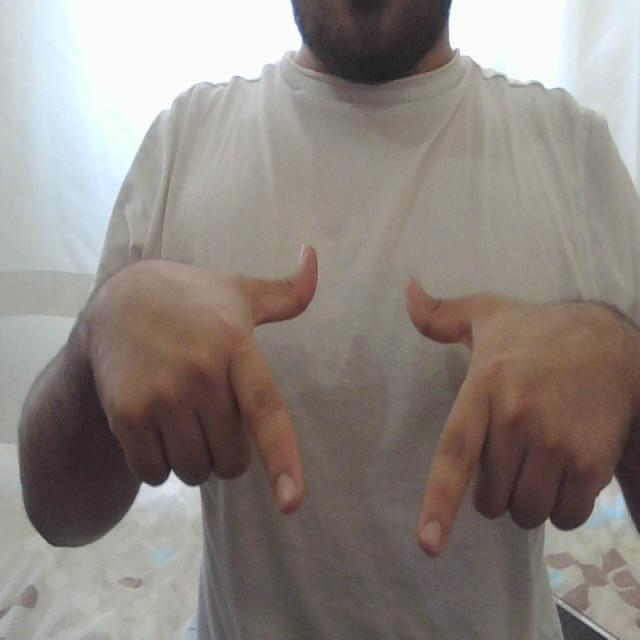Nerede: (220, 240, 521, 559)
